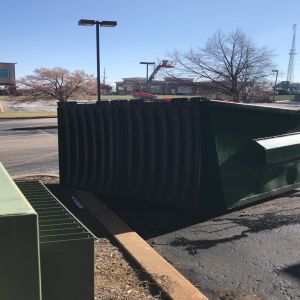Dumpster: (52, 98, 300, 213)
